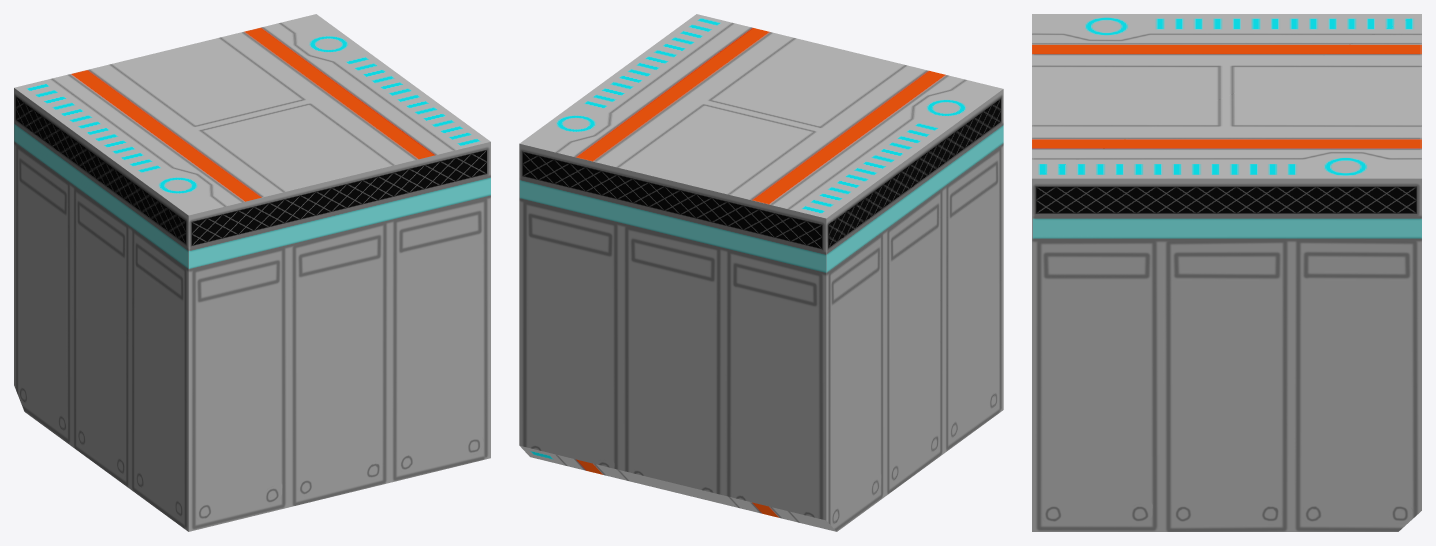
The model's file is base_block_down.fbx.
3 renders of one model, left to right at view 1: azimuth 30°, elevation 25°; view 2: azimuth 150°, elevation 25°; view 3: azimuth 270°, elevation 25°, orthographic. The views are drawn at different scales.
Parts seen in each view (by area): view 1: base_block_down; view 2: base_block_down; view 3: base_block_down.
Part boxes in pixels (bbox=[...]): base_block_down: bbox=[14, 14, 490, 531]; base_block_down: bbox=[519, 14, 1003, 531]; base_block_down: bbox=[1032, 14, 1421, 531].
Bounding box in the file's own units: 16 × 16 × 16.
